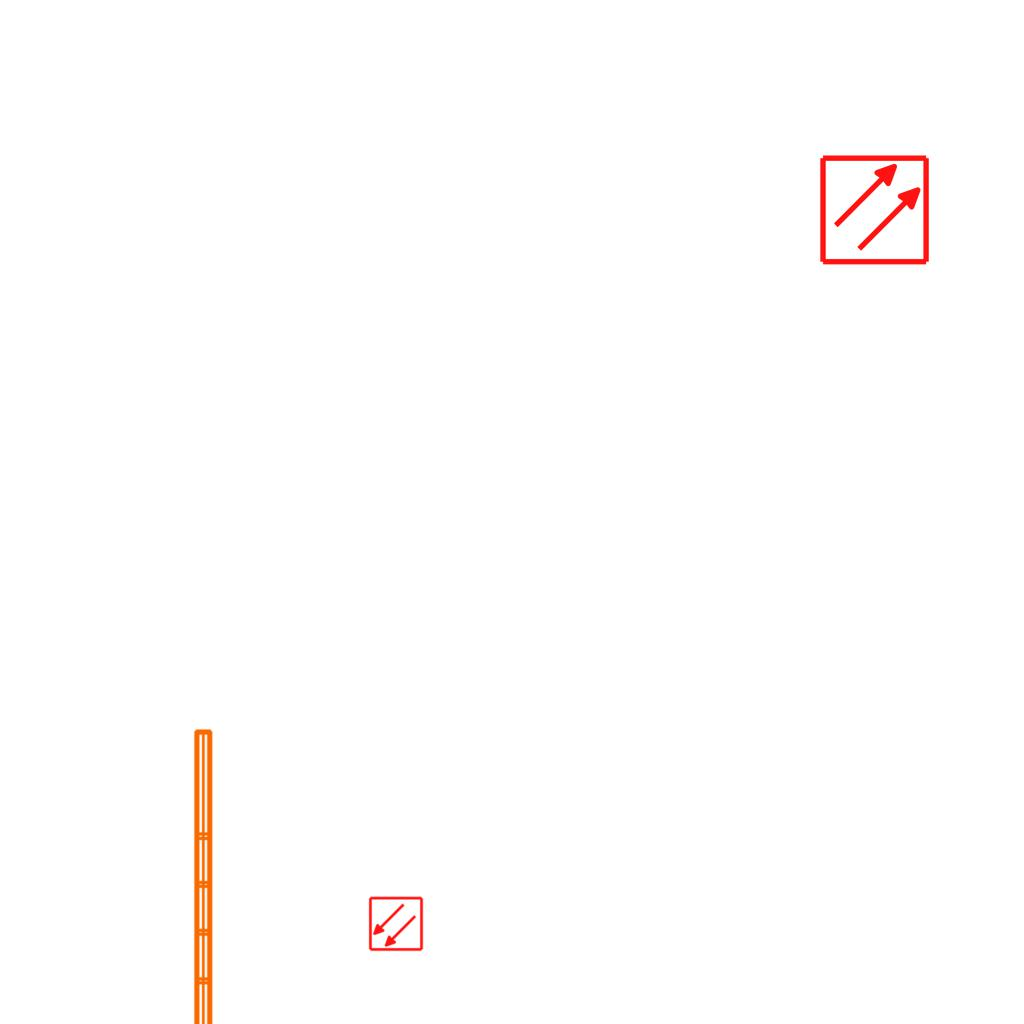Ambulanz_Pendelleuchte_LED: (188, 724, 244, 1024)
RMO_Rauchmelder_optischer: (818, 153, 931, 266), (368, 896, 424, 952)
